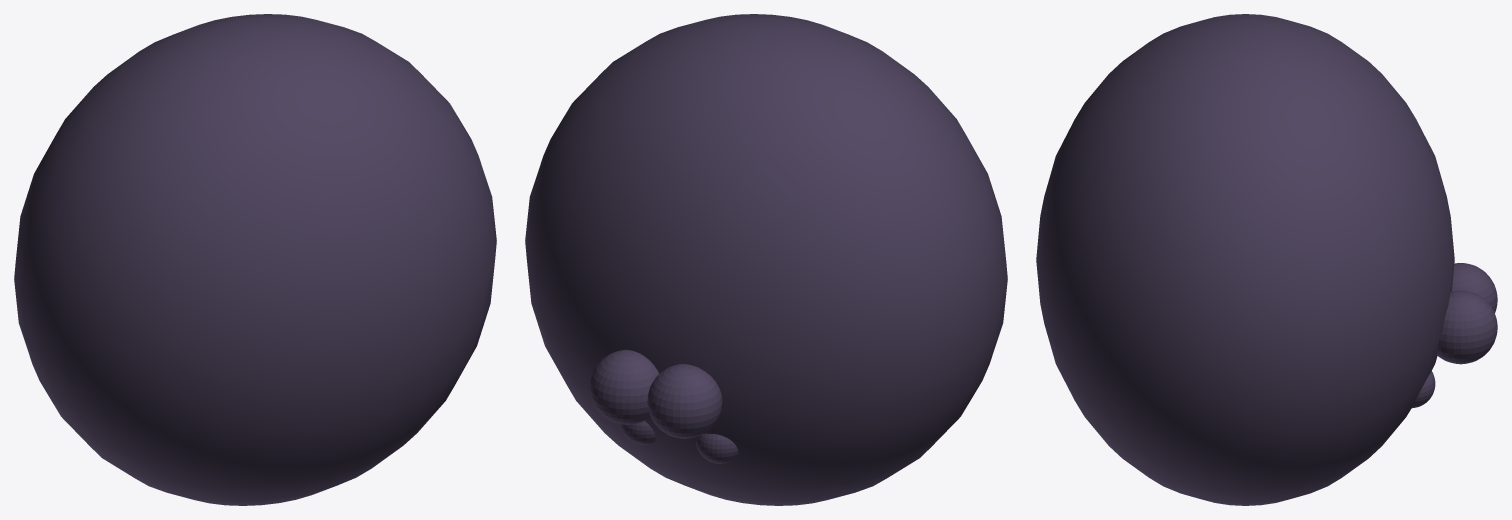
The model's file is seal_gg.obj.
The picture shows the model from 3 angles, left to right: view 1: azimuth 30°, elevation 25°; view 2: azimuth 150°, elevation 25°; view 3: azimuth 270°, elevation 25°; orthographic projection.
Parts seen in each view (by area): view 1: Sphere; view 2: Sphere, Sphere.001, Sphere.002, Sphere.004, Sphere.003; view 3: Sphere, Sphere.002, Sphere.001.
Part boxes in pixels (<box>): Sphere: <box>14,14,496,505</box>; Sphere: <box>525,14,1007,505</box>; Sphere.001: <box>647,364,722,438</box>; Sphere.002: <box>590,349,659,424</box>; Sphere.004: <box>696,433,738,463</box>; Sphere.003: <box>620,421,655,444</box>; Sphere: <box>1036,14,1454,505</box>; Sphere.002: <box>1437,290,1497,364</box>; Sphere.001: <box>1452,263,1497,312</box>.
Size of the model in its own units: 2 by 2 by 1.87.
